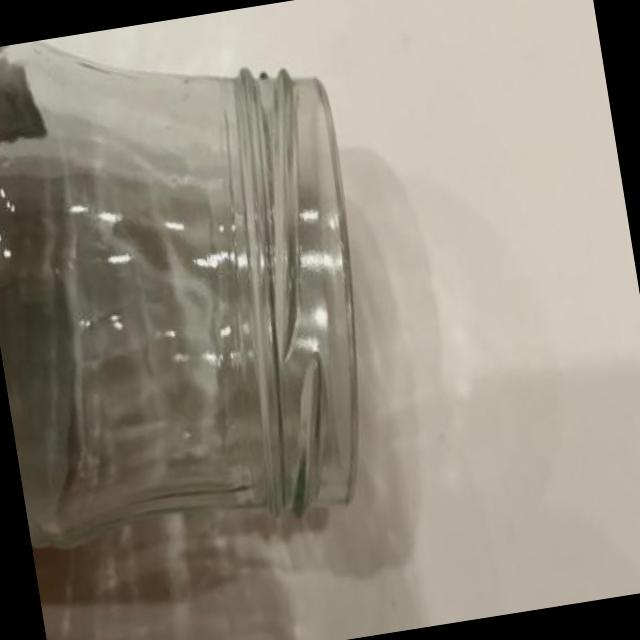chai_thuy_tinh: (0, 41, 357, 548)
